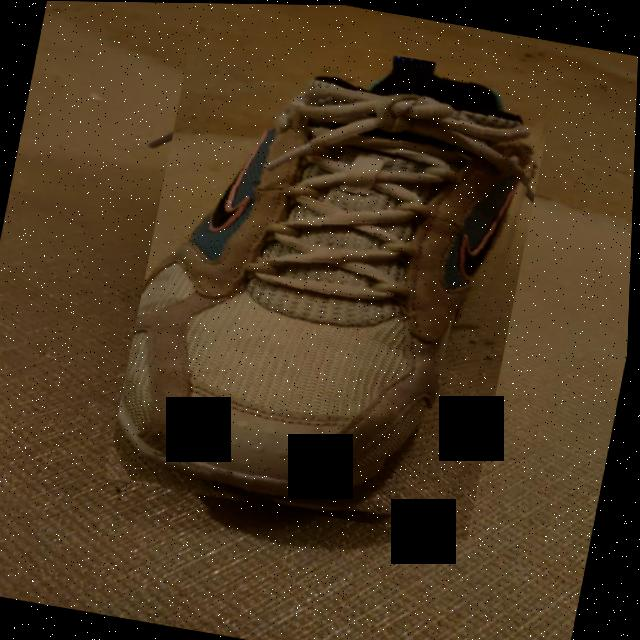shoe: (107, 19, 559, 541)
